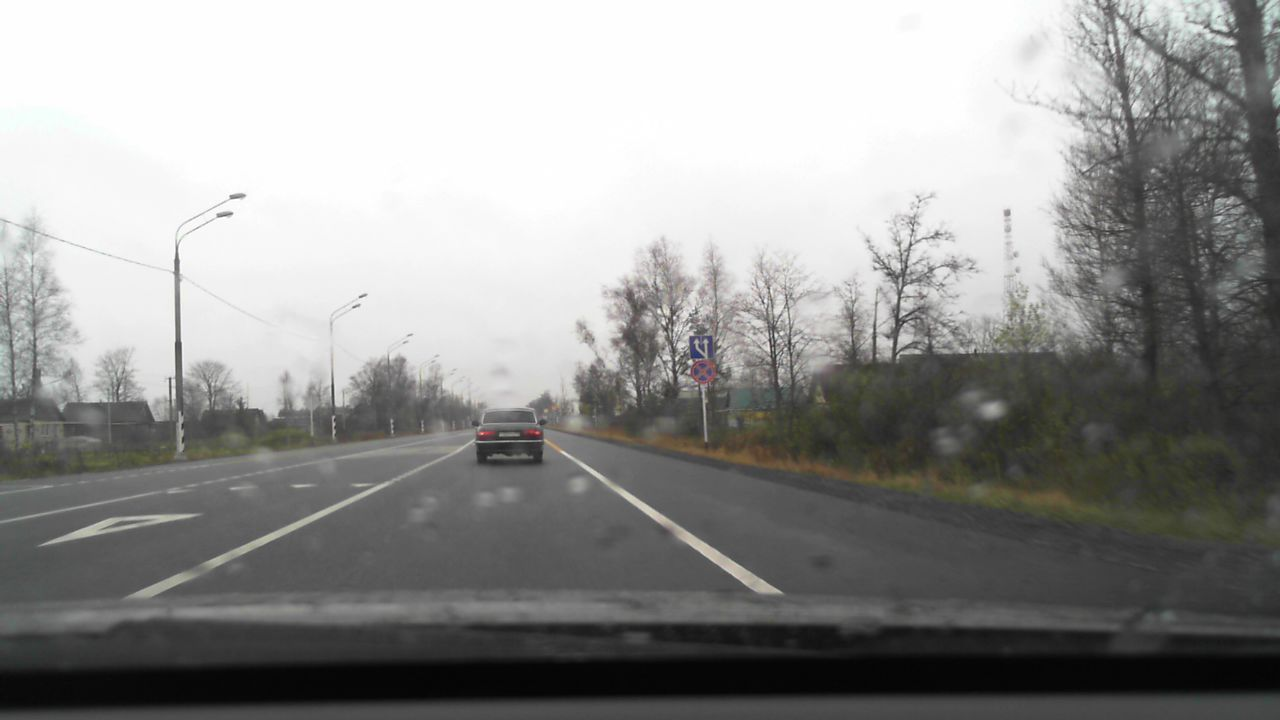No Parking: (690, 360, 715, 383)
